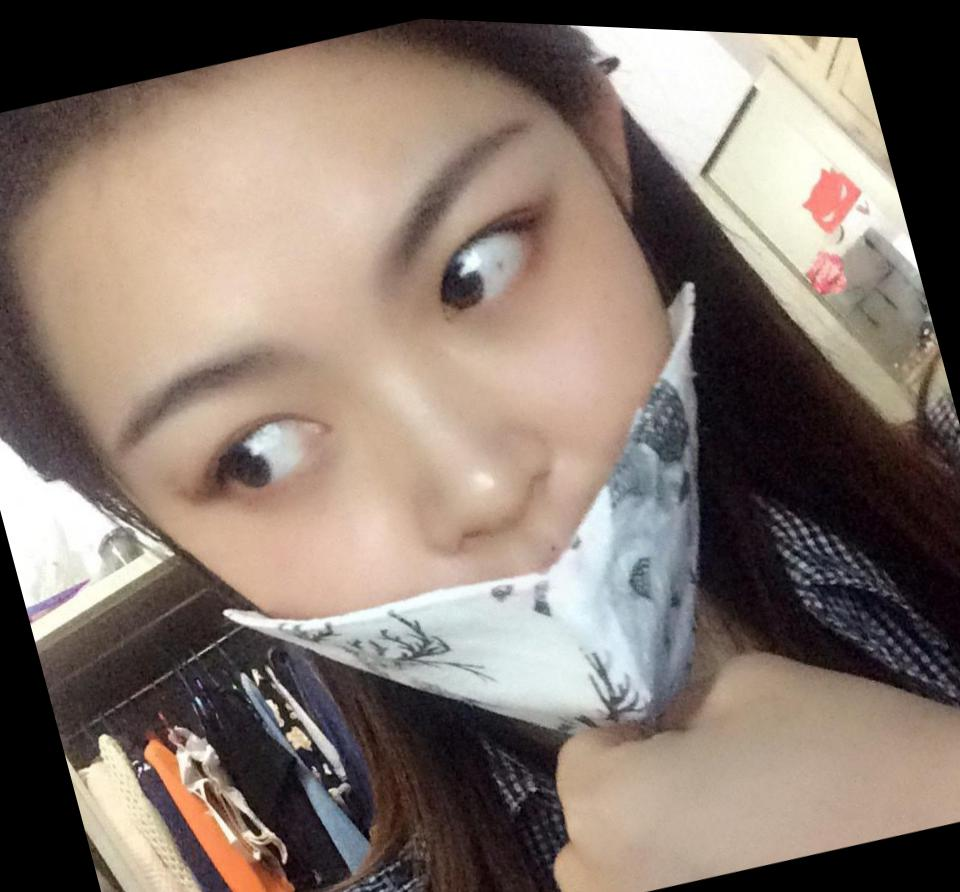WRONG: (46, 28, 776, 850)
